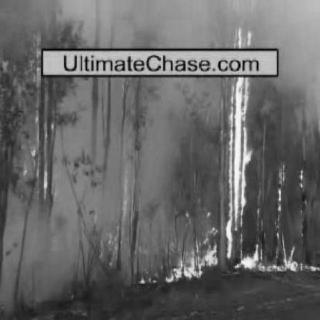Fire: (31, 140, 57, 193)
